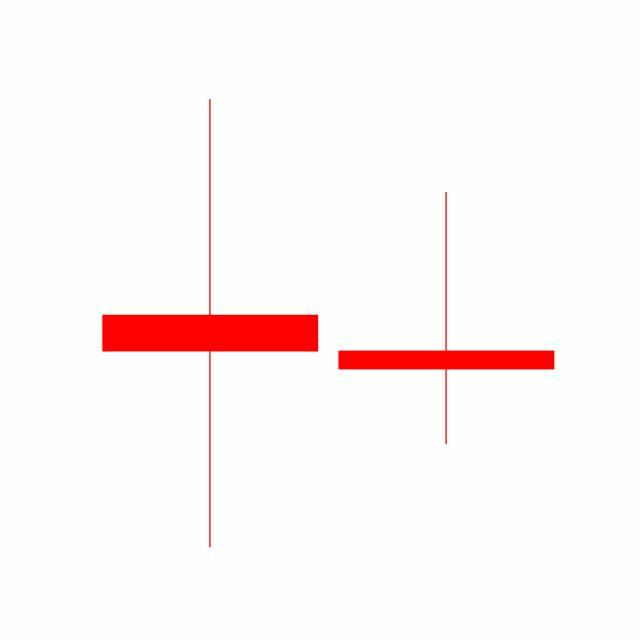Spinning Top: (328, 190, 566, 448)
